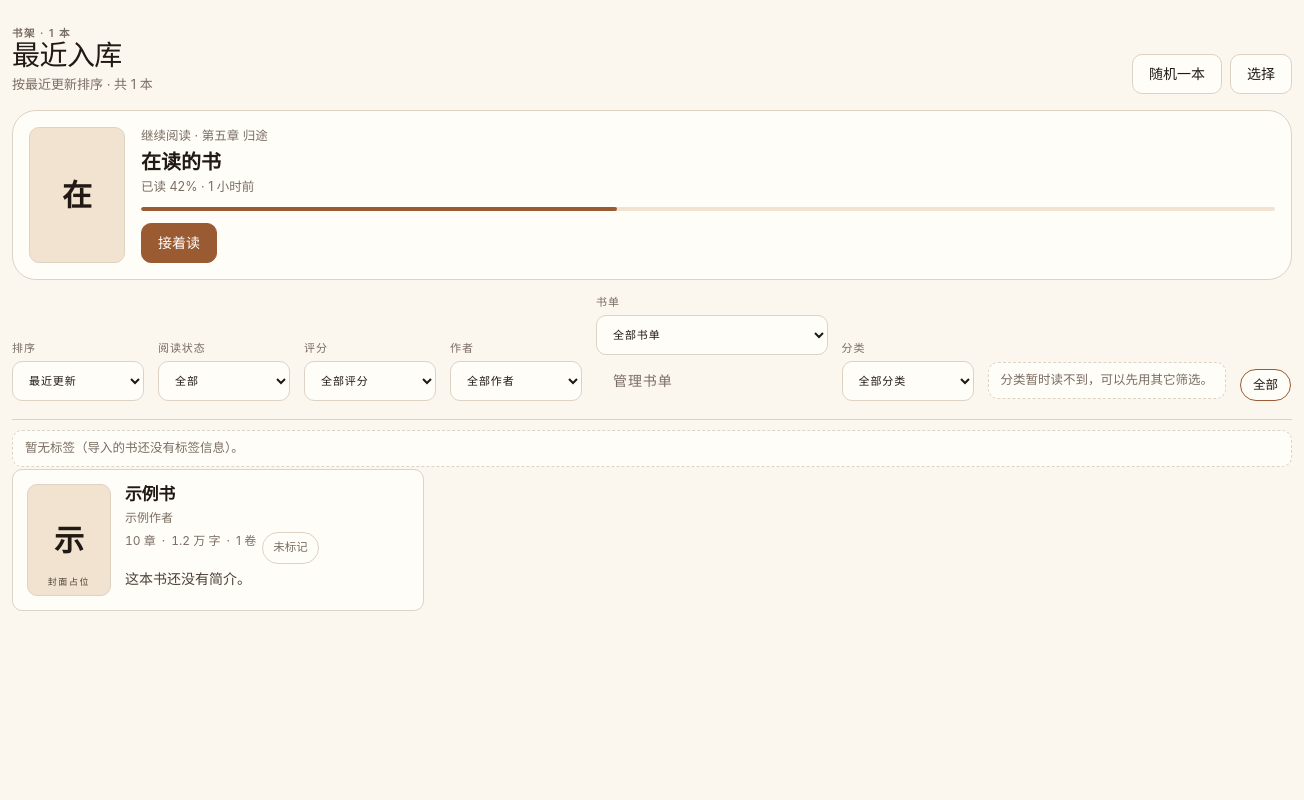
书架：随机一本 › 没有符合条件的书（404）给提示而不是错误页
The width and height of the screenshot is (1304, 800).
Click the button with test id "shelf-random" at (1177, 74), box 1132,54 -> 1222,94
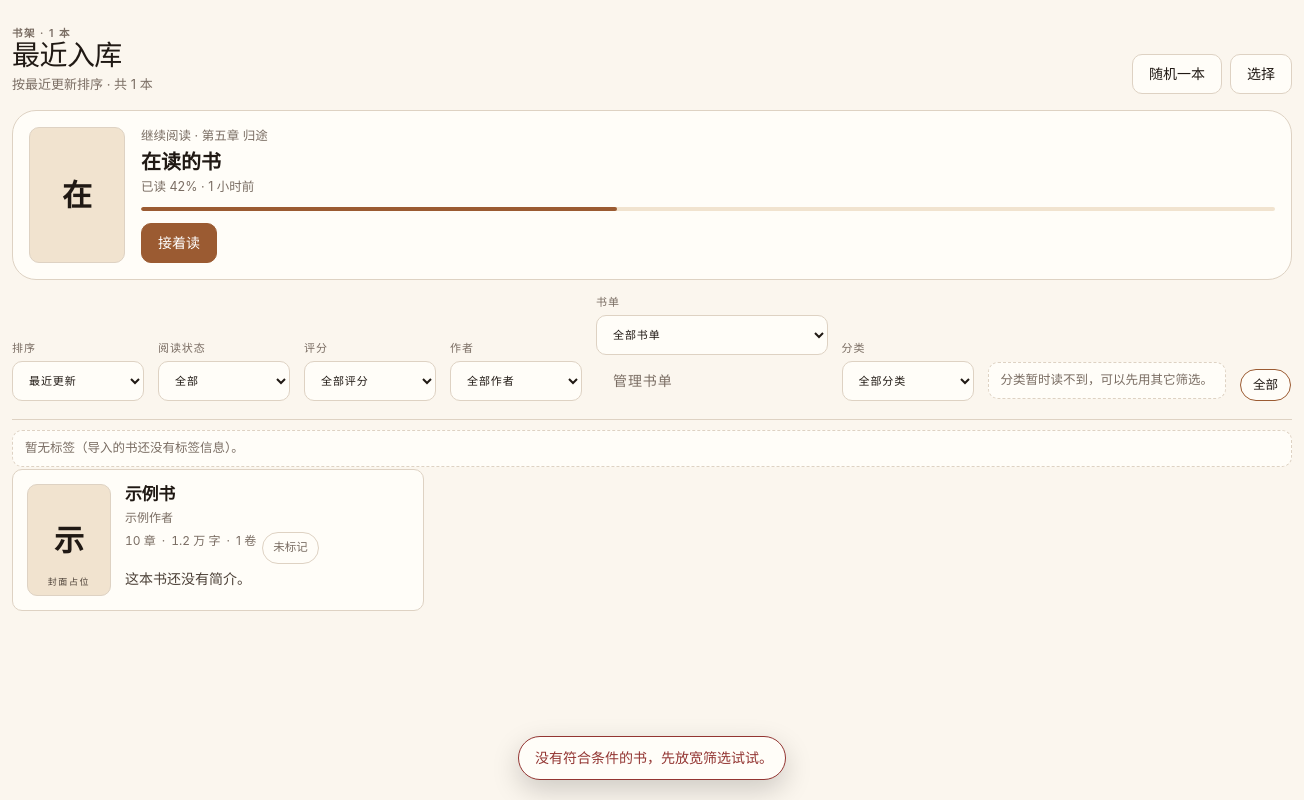
Expected: the element with test id "shelf-live" is shown, 12,469 -> 424,611
Expected: the message with test id "toast" shows "没有符合条件的书", 535,749 -> 773,766
